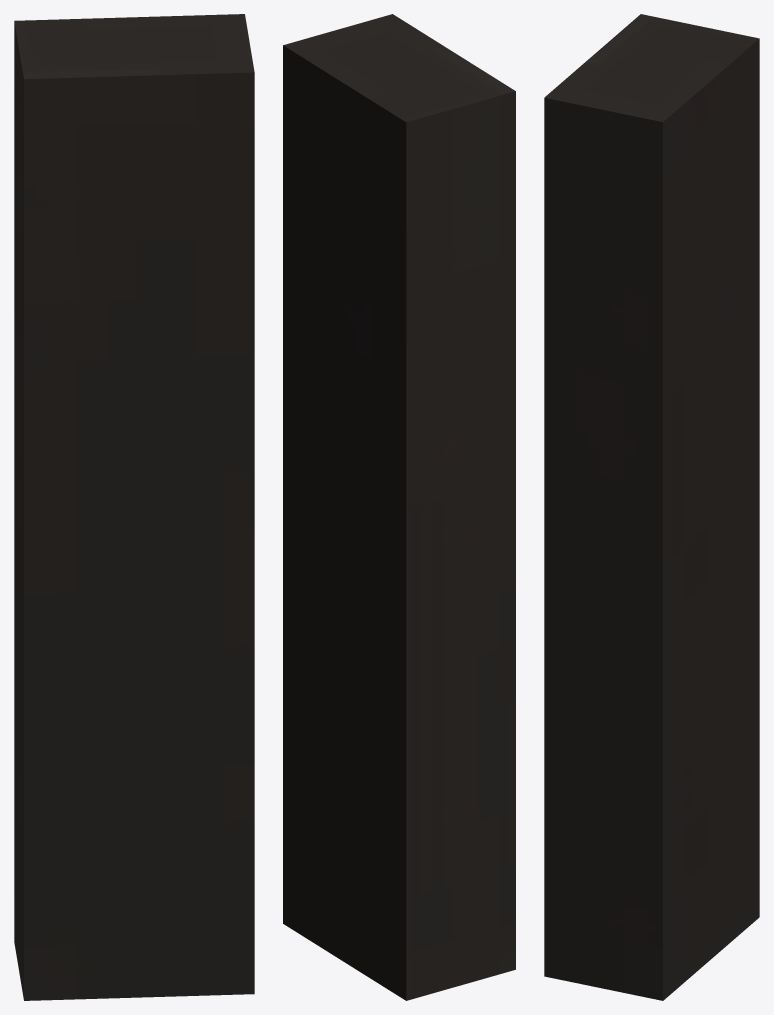
Rendered from backrest__support_bar.glb.
The picture shows the model from 3 angles, left to right: view 1: azimuth 30°, elevation 25°; view 2: azimuth 150°, elevation 25°; view 3: azimuth 270°, elevation 25°; orthographic projection. The views are drawn at different scales.
Visible parts, largest first — view 1: world; view 2: world; view 3: world.
Part boxes in pixels (x1,y1,x2,y2): world: (14, 14, 254, 1000); world: (283, 14, 515, 1000); world: (544, 14, 759, 1000).
Bounding box in the file's own units: 0.0581 × 0.22 × 0.0489.
Materials: 1 (1 with a texture image).
